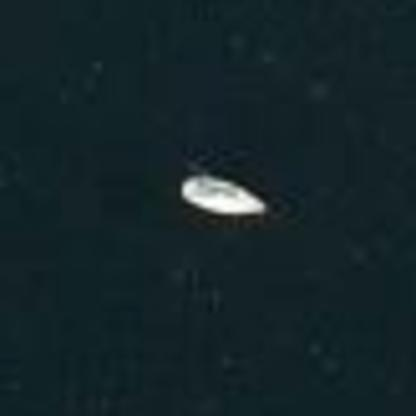ship: (172, 166, 270, 223)
